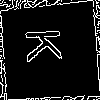K: (25, 26, 70, 64)
